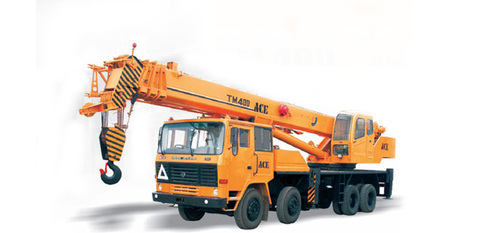crane: (73, 52, 402, 224)
